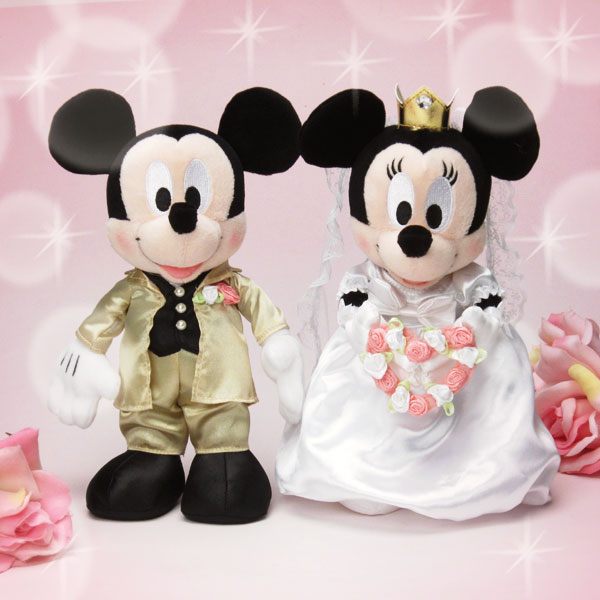Mickey: (43, 84, 309, 287)
